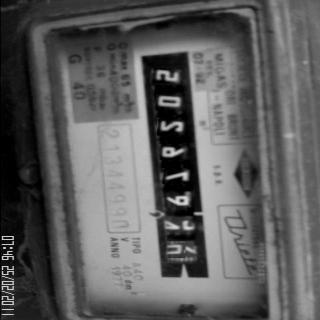1: (156, 94, 185, 110), (161, 242, 185, 258)
3: (157, 118, 186, 136)
5: (159, 218, 182, 235)
6: (151, 69, 182, 86)
7: (159, 144, 190, 160)
8: (162, 168, 194, 184)
:: (163, 193, 193, 210)
